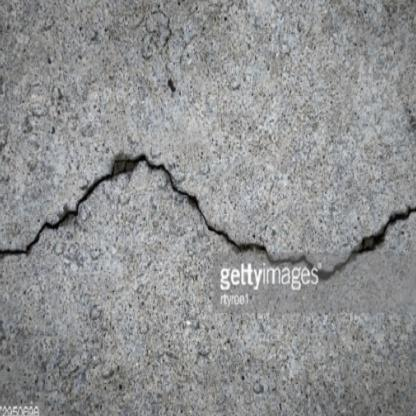Cracks: (0, 151, 416, 287)
